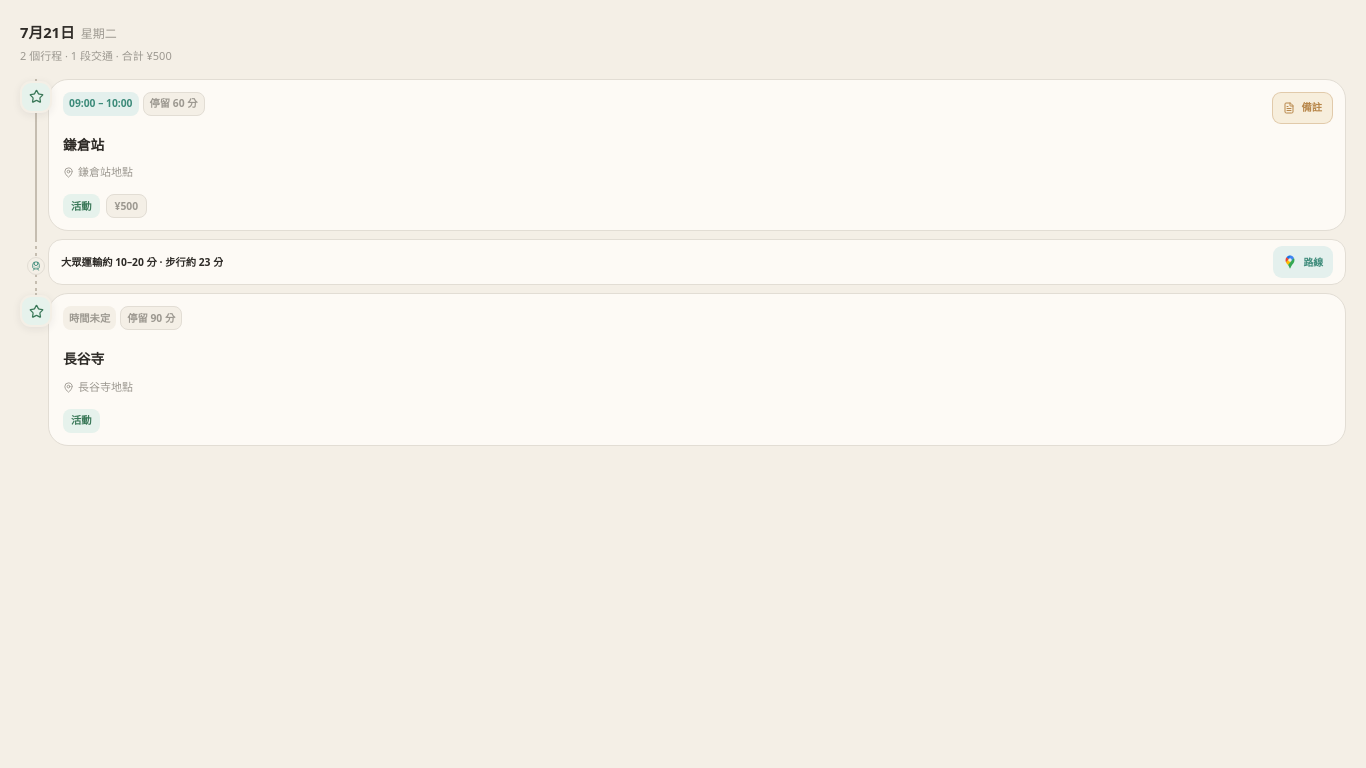
Scenario: DayTimeline › renders schedule metadata and a neutral connector without inventing transport details
Check: the text "09:00 – 10:00" is shown, box [63,92,138,116]
Check: the text "停留 60 分" is shown, box [142,92,204,116]
Click the text "備註".
click(1312, 108)  # box [1301,100,1322,115]
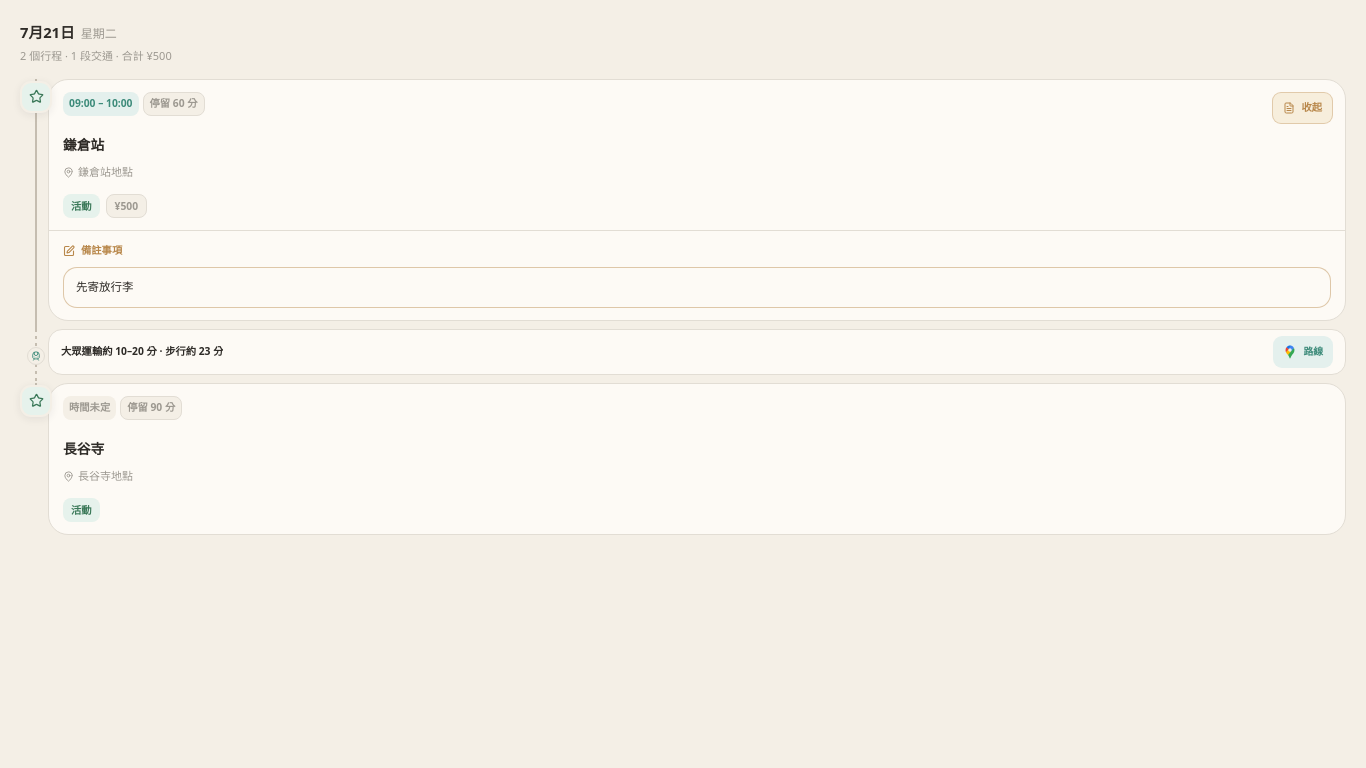
Check: the text "大眾運輸約 10–20 分 · 步行約 23 分" is shown, box [61,344,224,360]
Check: the text "先寄放行李" is shown, box [76,279,134,294]
